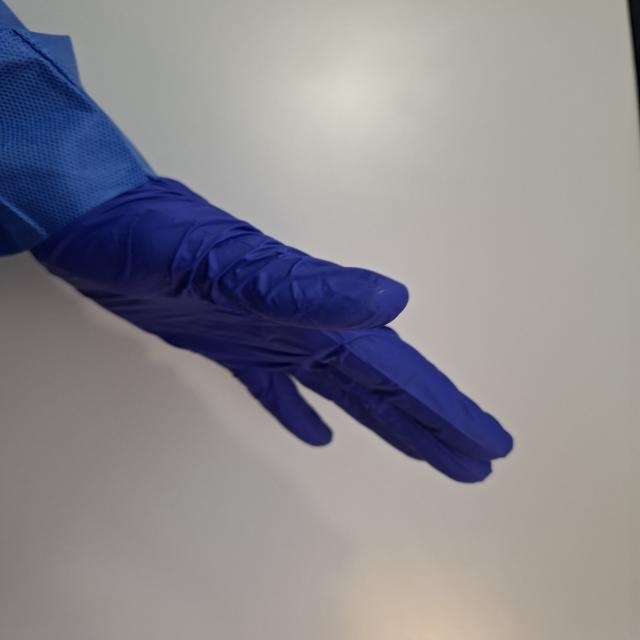glove_on: (32, 166, 516, 486)
